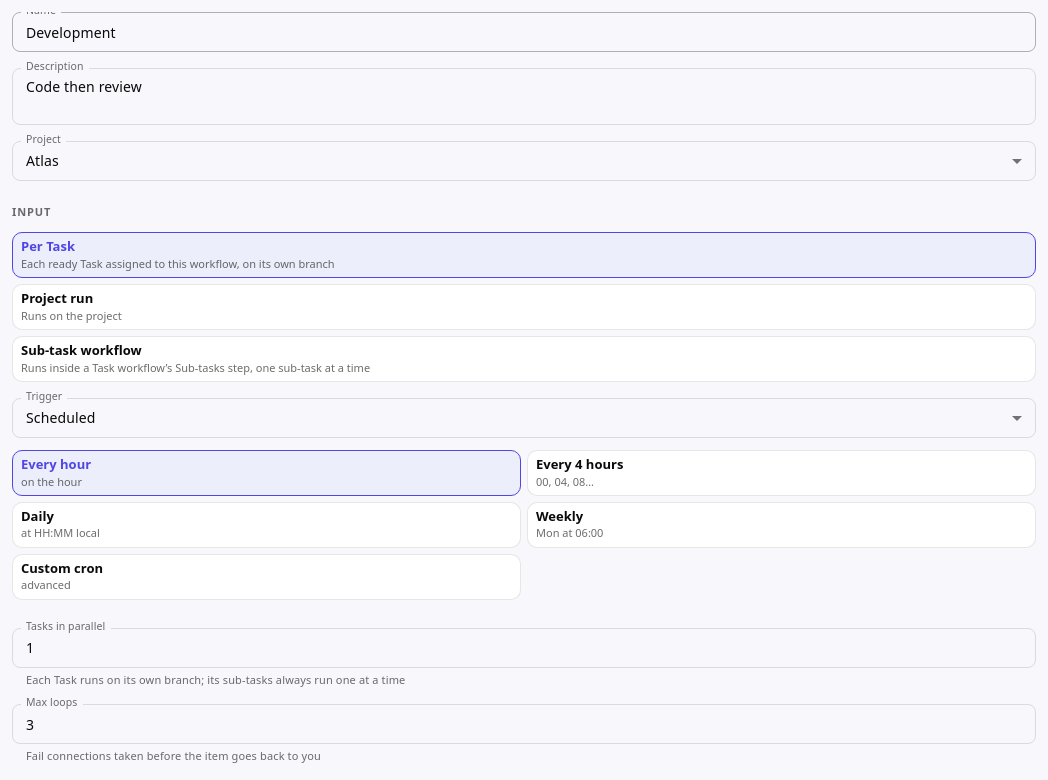
Test: StartInspector › asks for a time of day only for the presets that have one
The image size is (1048, 780).
Expected: the field labelled "Time of day" is not shown
What coordinates should you click on to do the following:
click the button "Weekly Mon at 06:00"
I would click on:
 (560, 516)
Its box is [527,502,1036,548].
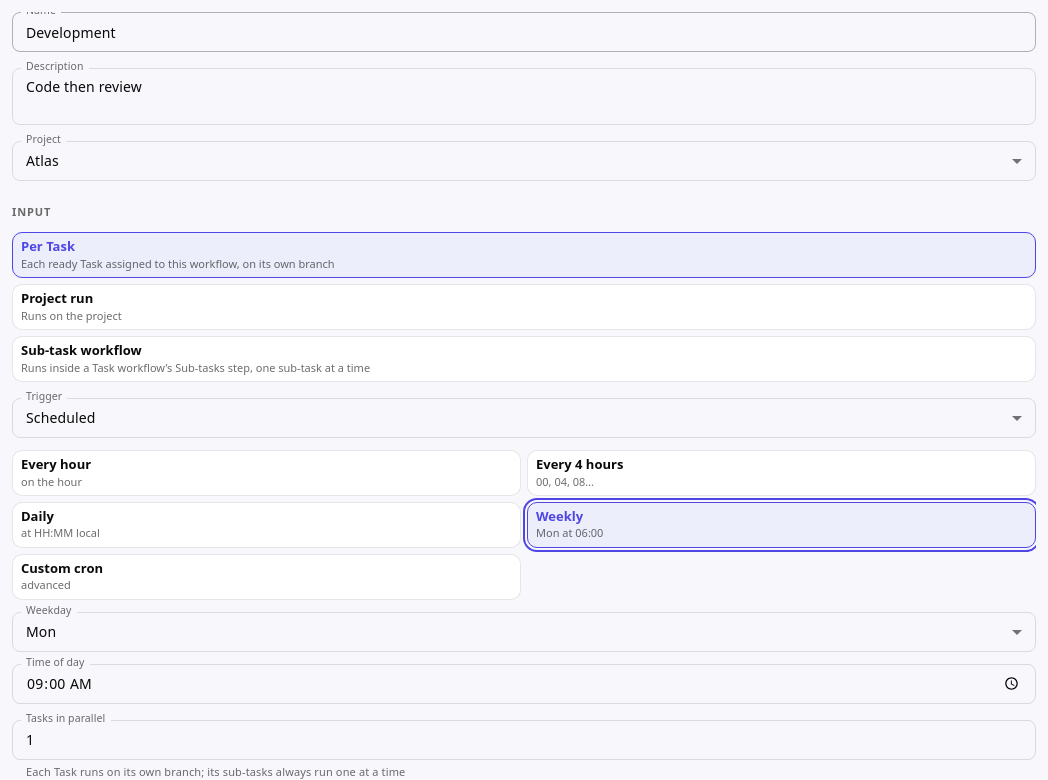
Expected: the time field labelled "Time of day" is shown, [12,664,1036,704]
